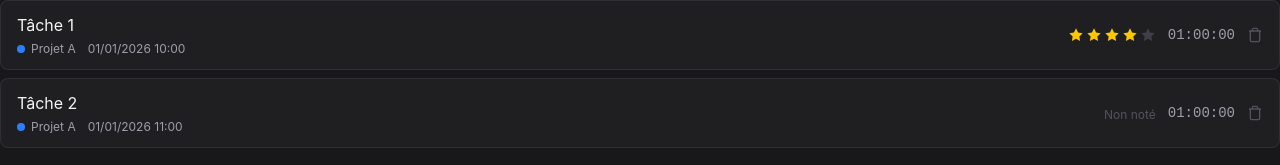
Scenario: TaskList › shows star rating editor on click
This screenshot has width=1280, height=165.
Click the button "Non noté": x=1130, y=113 [1104,101,1156,125]
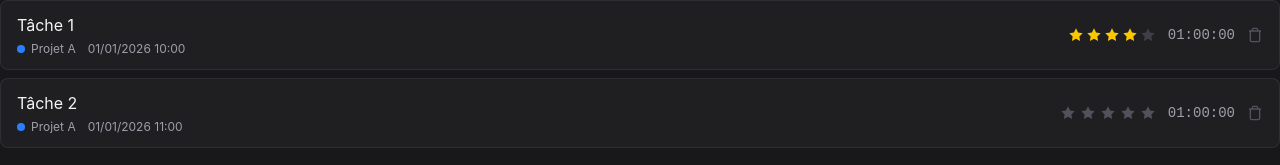
Now the number of radio buttons is 5, box [1060,105,1076,121]; [1080,105,1096,121]; [1100,105,1116,121]; [1120,105,1136,121]; [1140,105,1156,121]
